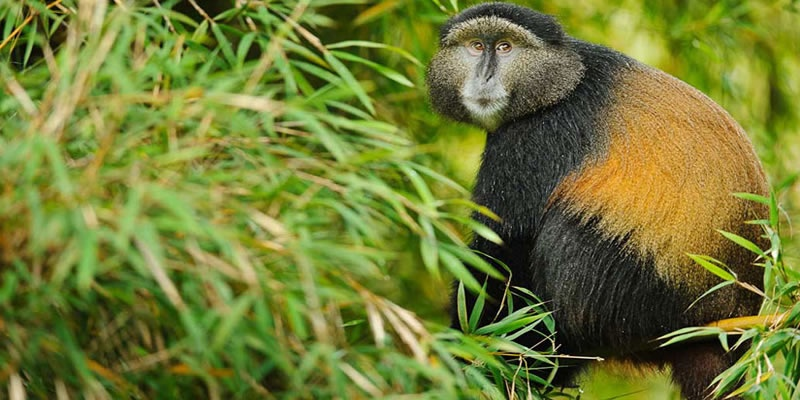monkey: (415, 1, 784, 400)
